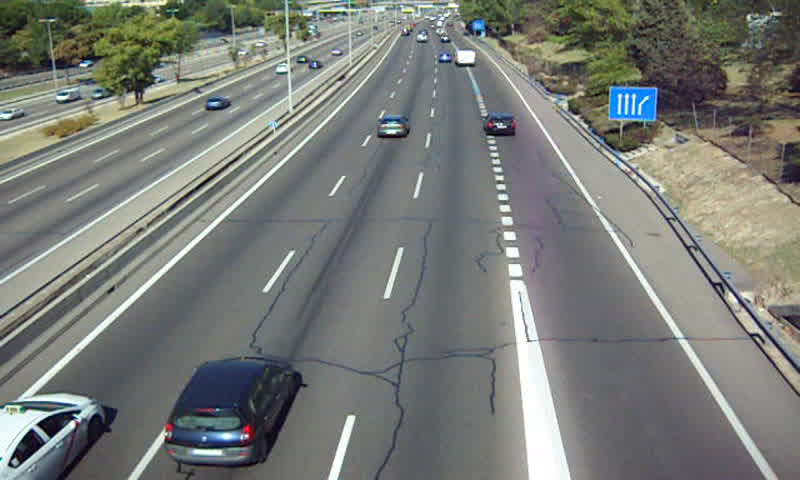car: (166, 358, 302, 467), (376, 112, 410, 138), (482, 114, 517, 136)
van: (453, 50, 477, 66)
